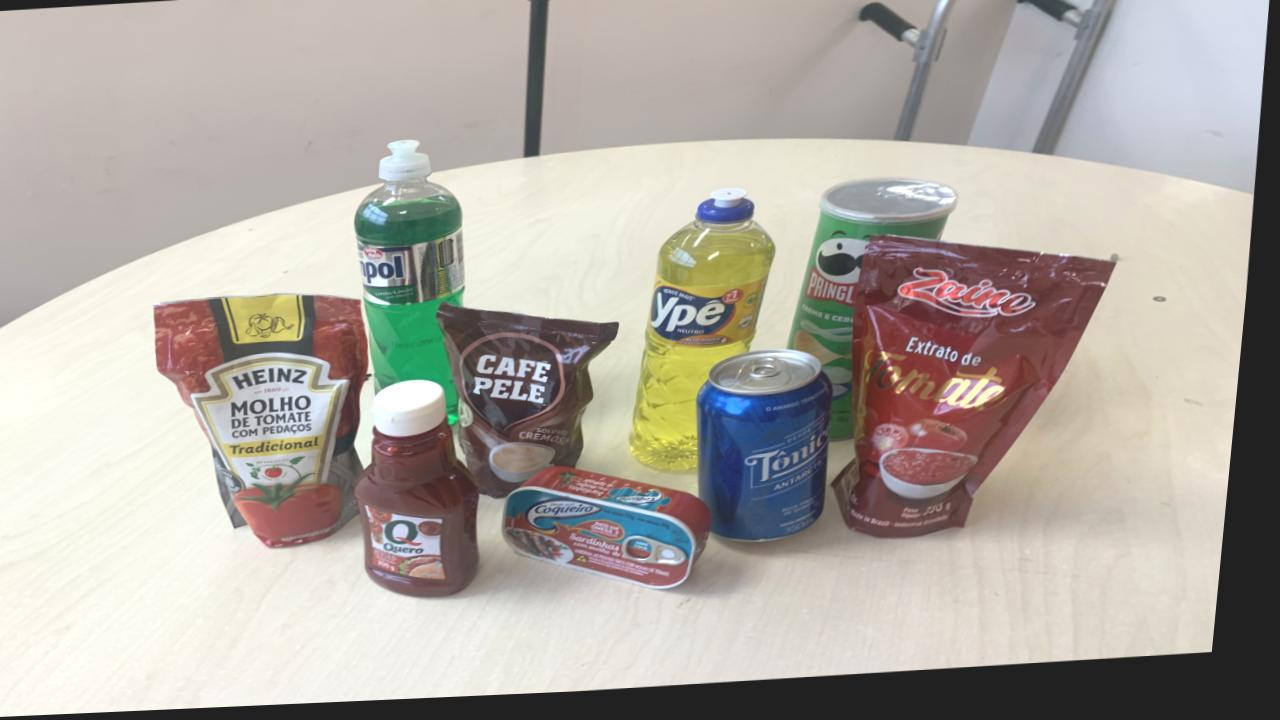Coffee-Pantry_Items: (444, 309, 626, 502)
Detergent-Cleanup_Items: (639, 196, 782, 478), (359, 144, 472, 430)
Ketchup-Pantry_Items: (366, 384, 490, 602)
Pringles-Snacks: (796, 185, 962, 449)
Tomato_Sauce-Pantry_Items: (843, 244, 1123, 547), (160, 296, 377, 551)
Tonic-Drinks: (705, 356, 841, 549)
Tuna_Can-Pantry_Items: (514, 472, 722, 596)
